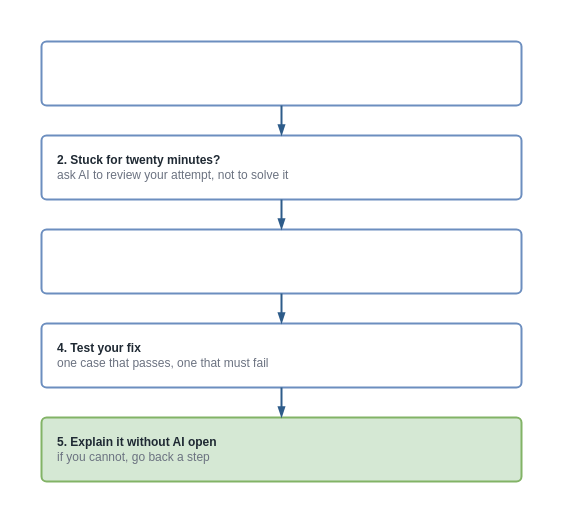
The diagram is 562 pixels wide and 522 high, and some of its shapes have lost their labels. The shapes that lost their labels are listed below. From the top down, each one's centre as x and y in pixels, then its label:
At point (281, 73): "1. Attempt the problem alone even a wrong first try counts".
At point (281, 261): "3. Fix it yourself use the hints, write the code".
